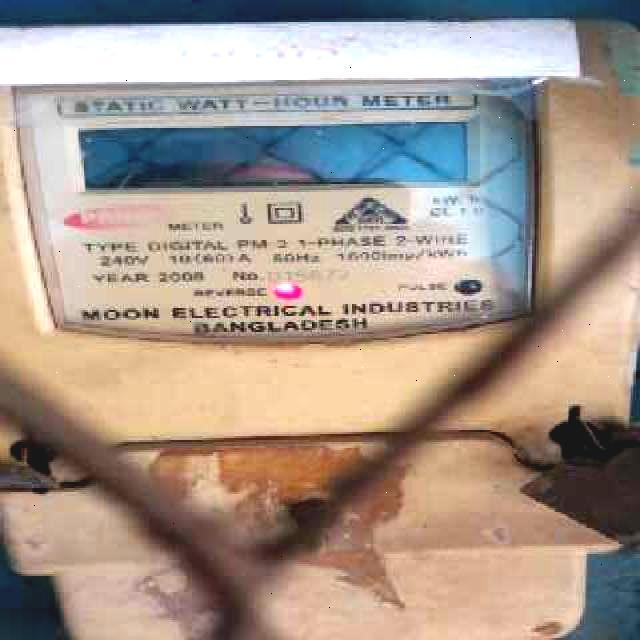LCD: (66, 118, 492, 193)
